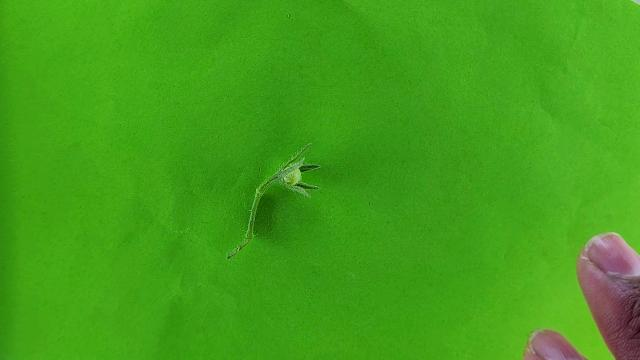Fruit Bud: (275, 143, 322, 193)
